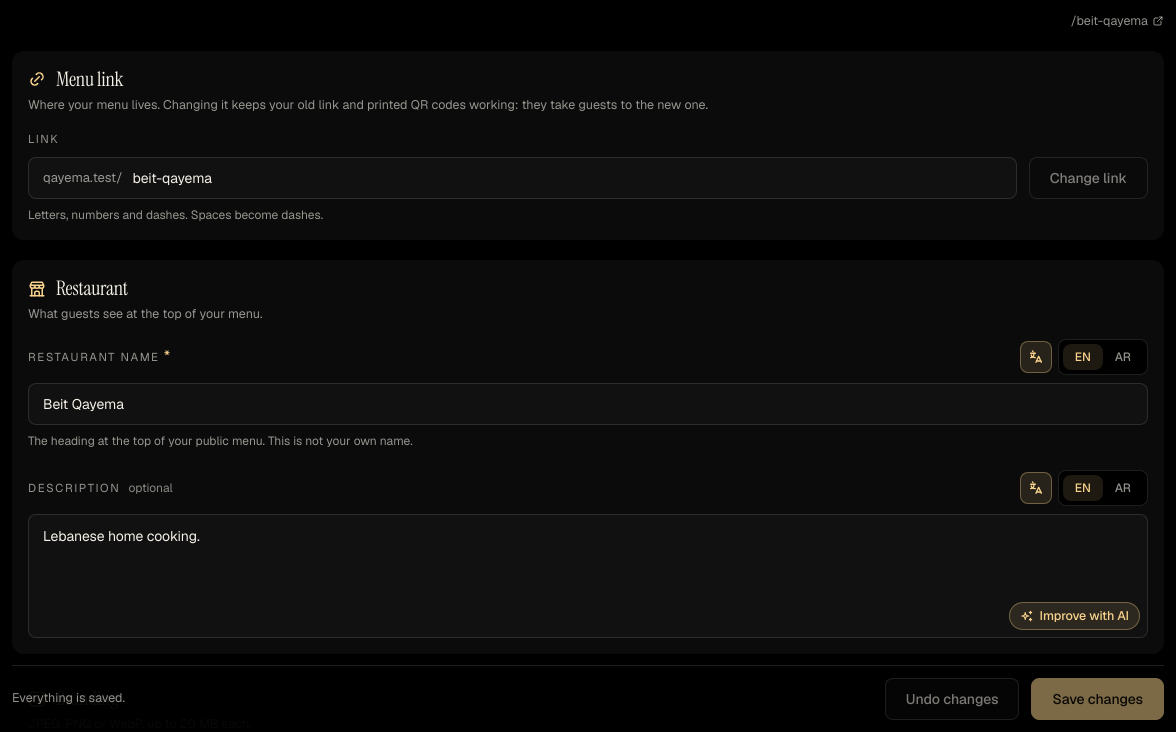
RestaurantPage › improves the description from the menu and translates the name
The width and height of the screenshot is (1176, 732).
// There is already a description, so the button improves it.
Click the button "Improve with AI": point(1074, 616) [1008,602,1140,630]
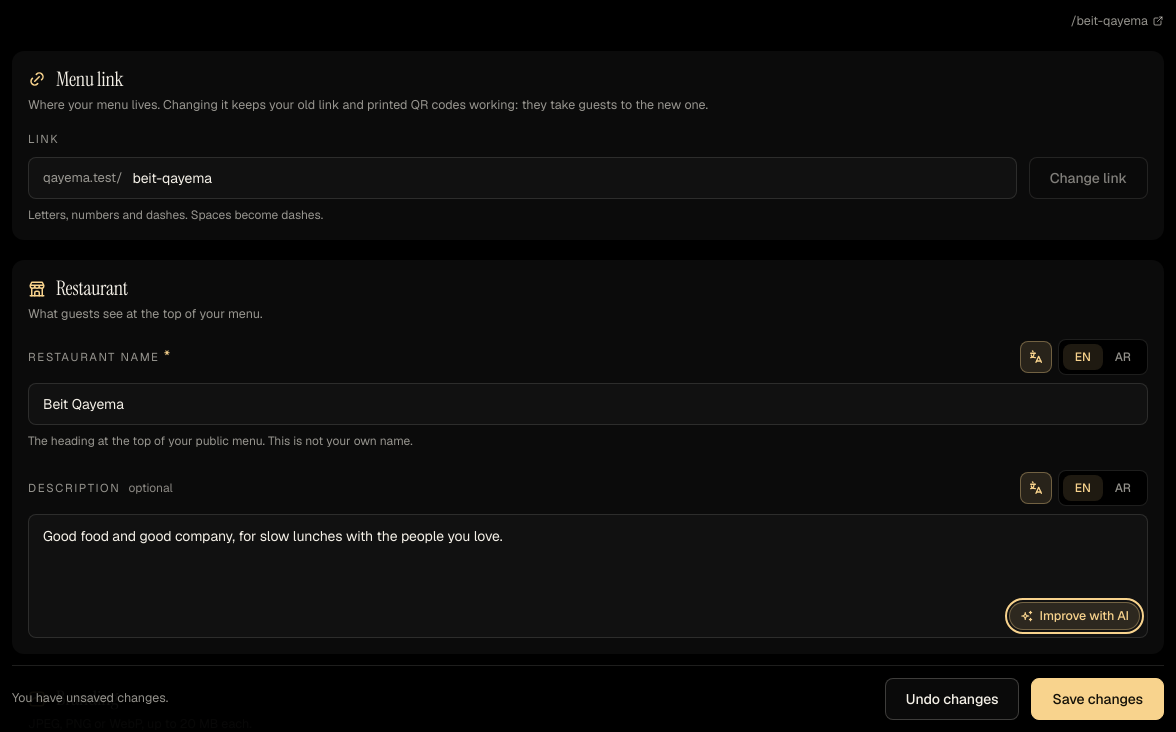
Expected: the text box labelled "Description optional" holds "Good food and good company, for slow lunches with the people you love.", [29,515,1147,637]
Click the button named "Translate to Arabic" in the row of "Restaurant name": point(1036, 356) [1020,340,1052,372]
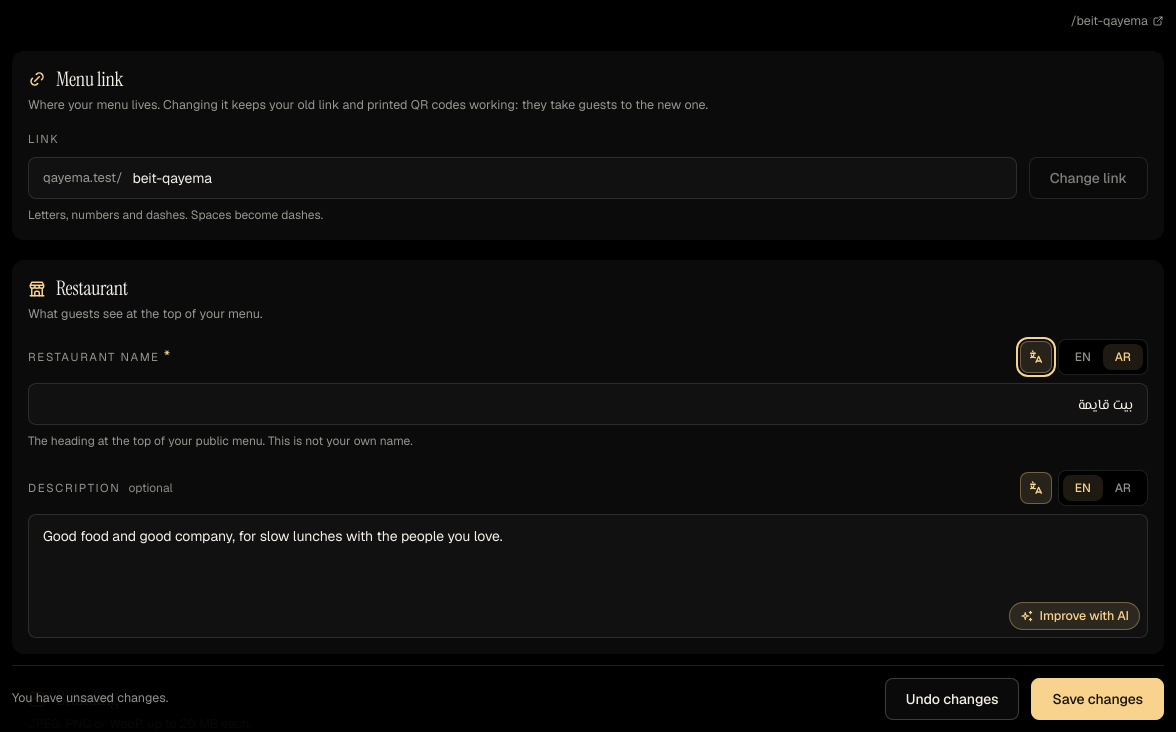
Expected: the button "Save changes" is enabled, [1032,678,1164,720]
Expected: the field labelled "Restaurant name*" holds "بيت قايمة", [29,384,1147,424]
